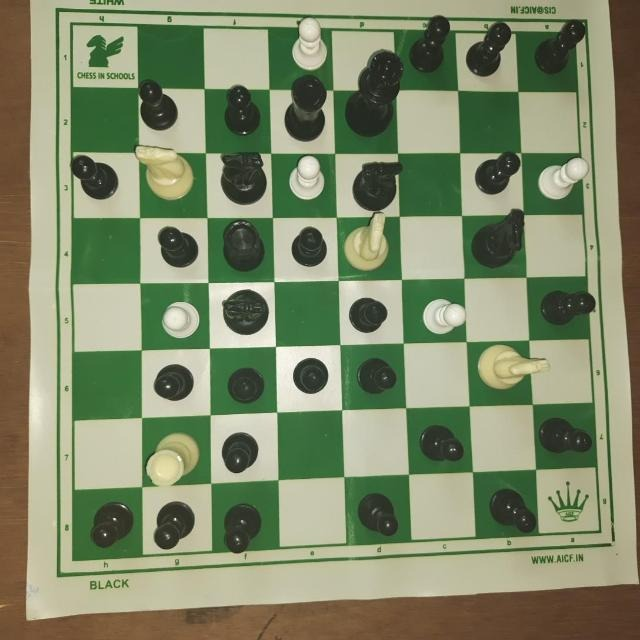black-knight: (468, 204, 529, 269), (350, 152, 408, 209), (218, 286, 273, 343), (217, 147, 269, 203)
black-pawn: (147, 493, 201, 555), (530, 19, 586, 78), (483, 482, 541, 537), (463, 16, 513, 79), (217, 495, 265, 559), (353, 487, 403, 544), (409, 11, 453, 75), (67, 151, 121, 203), (86, 498, 136, 554), (534, 412, 595, 457), (538, 284, 600, 328), (351, 354, 401, 404), (220, 425, 266, 479), (150, 359, 198, 409), (136, 75, 178, 132), (222, 82, 264, 139), (473, 149, 523, 195), (419, 420, 469, 465), (287, 222, 331, 273), (287, 352, 331, 402), (156, 222, 201, 270), (223, 364, 269, 408), (346, 293, 388, 334)
black-queen: (343, 47, 405, 142)
black-rook: (282, 74, 330, 142), (217, 215, 267, 276)
white-knight: (129, 137, 197, 200), (474, 345, 552, 395), (343, 210, 395, 274)
white-pawn: (534, 151, 593, 203), (287, 15, 333, 73), (283, 152, 331, 207), (419, 293, 467, 338), (156, 296, 201, 343)
white-rook: (141, 427, 201, 491)
